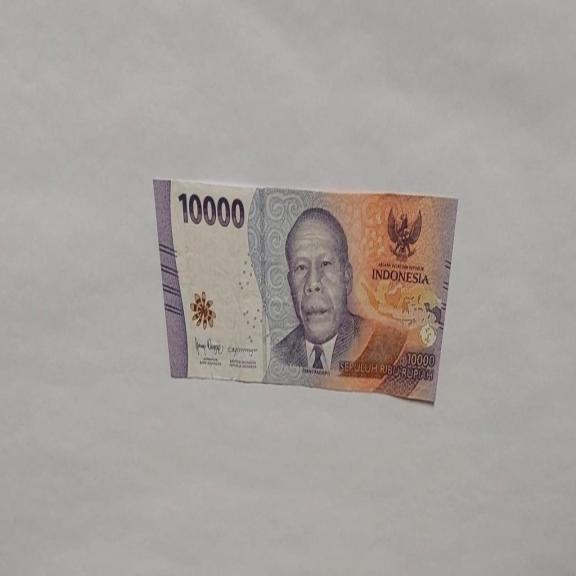Kertas: (152, 176, 458, 405), (177, 189, 245, 230)
